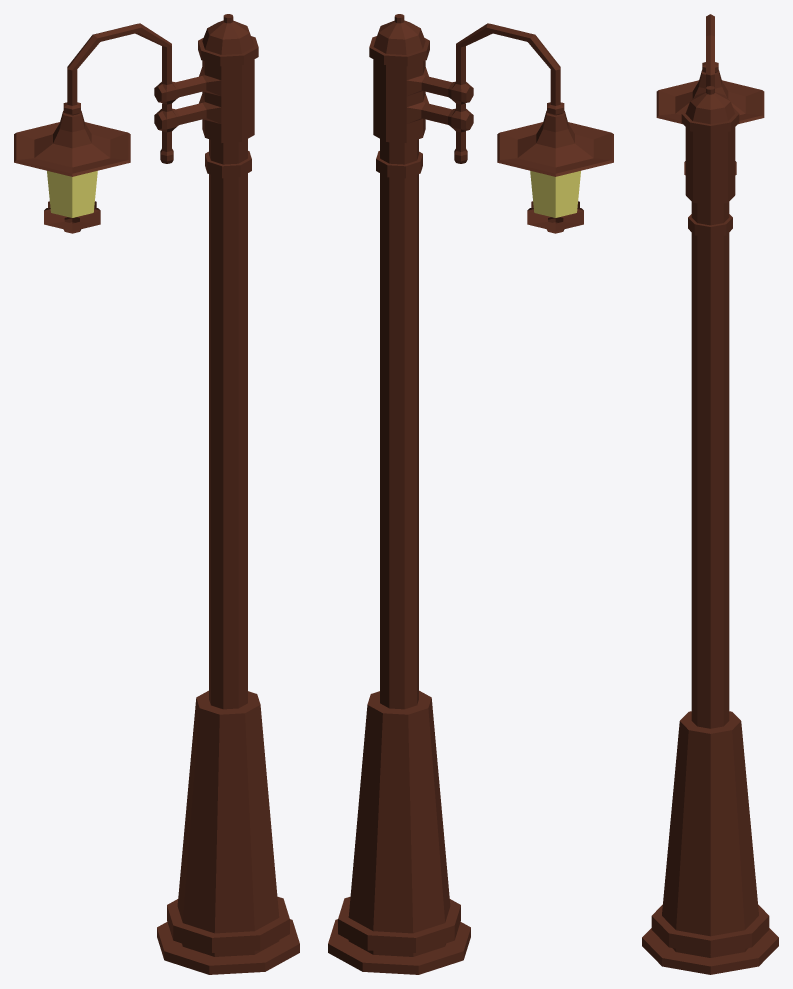
File: M_streetlight.fbx
The picture shows the model from 3 angles, left to right: view 1: azimuth 30°, elevation 25°; view 2: azimuth 150°, elevation 25°; view 3: azimuth 270°, elevation 25°; orthographic projection. The views are drawn at different scales.
Parts seen in each view (by area): view 1: Circle; view 2: Circle; view 3: Circle.
Part boxes in pixels (x1,y1,x2,y2): Circle: [14, 14, 299, 974]; Circle: [328, 14, 613, 974]; Circle: [642, 14, 778, 974].
Size of the model in its own units: 434 by 1405 by 200.
